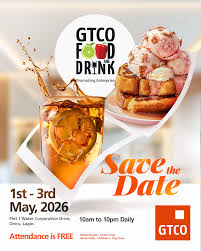Product: (117, 24, 190, 124), (35, 92, 105, 182)
logo: (72, 25, 120, 77)
